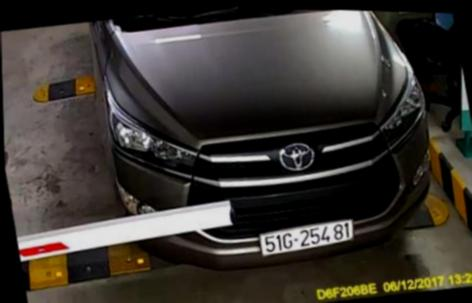License_Plate: (247, 216, 360, 267)
